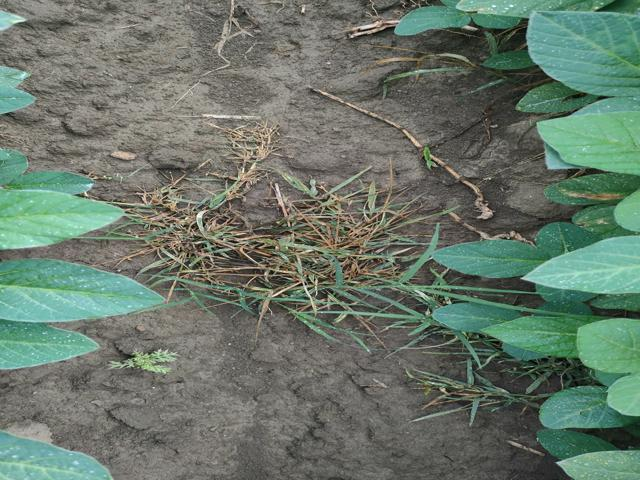bad weed: (85, 130, 503, 337), (387, 356, 584, 430), (110, 345, 172, 377)
